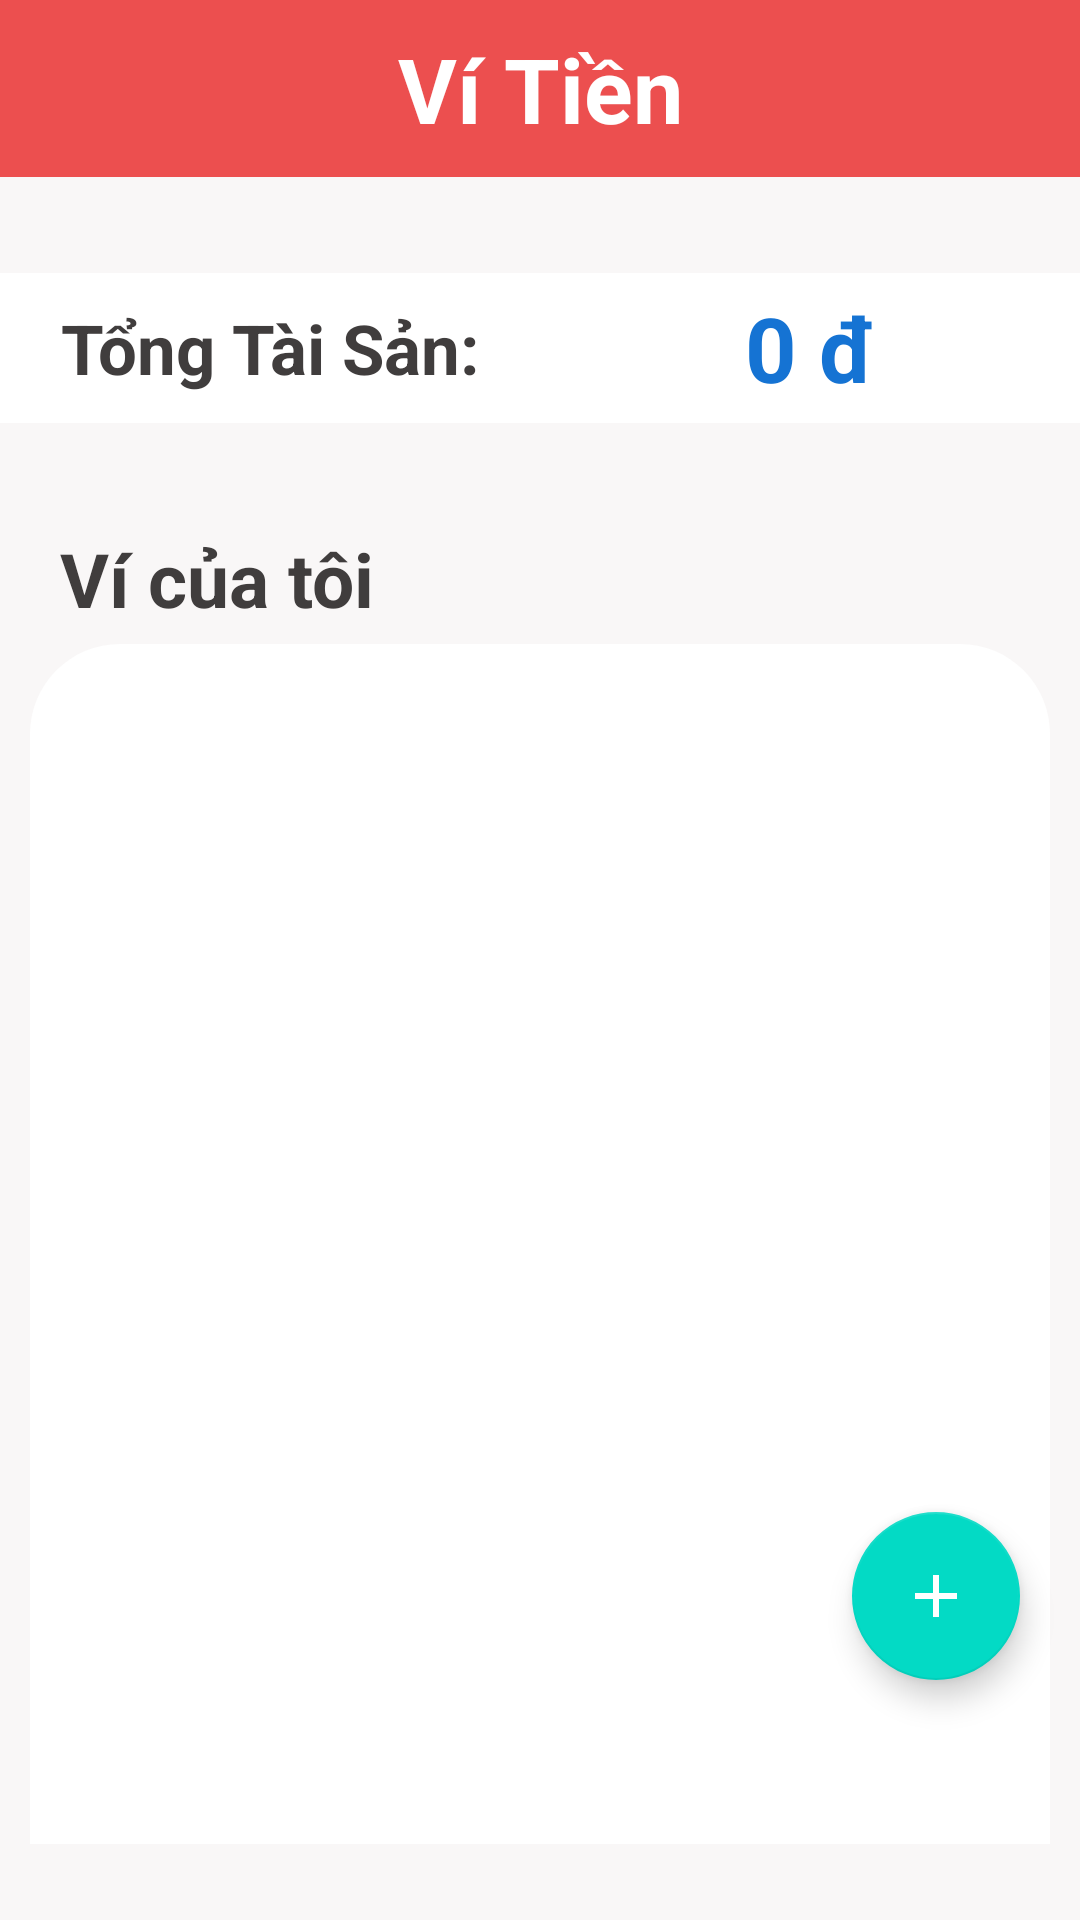

Point at icon controls on the screen. Image size 1080px x 1920px, points as (x=x, y=y).
fragmnt home add: (x=936, y=1596)
